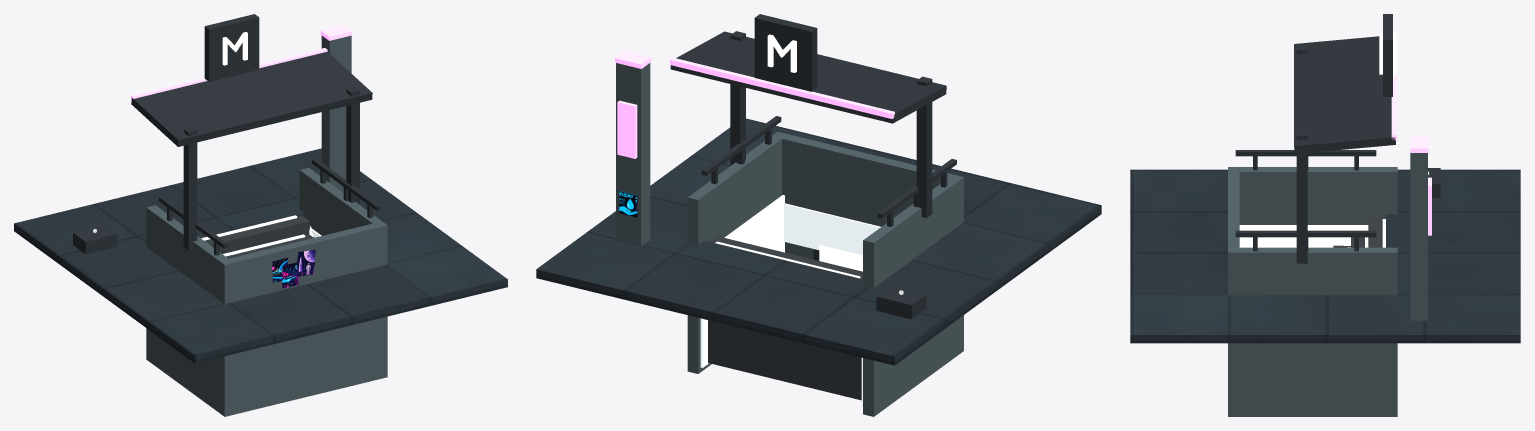
File: synthwave-subway.glb
3 renders of one model, left to right at view 1: azimuth 30°, elevation 25°; view 2: azimuth 150°, elevation 25°; view 3: azimuth 270°, elevation 25°, orthographic. The views are drawn at different scales.
Visible parts, largest first — view 1: Sub_BodyGround, Sub_Body, Sub_Frame, Sub_Door, Sub_SubPosters, Sub_NeonA, RK_Vent, Sub_SubNose, Sub_NeonB; view 2: Sub_BodyGround, Sub_Body, Sub_Frame, Sub_Door, Sub_SubTileWall, Sub_NeonA, RK_Vent, TotemGlow, Portal, Sub_NeonB; view 3: Sub_BodyGround, Sub_Body, Sub_Frame, Sub_SubTileWall, Sub_NeonA, Sub_Door.
Boxes of the visible parts, <box> form: Sub_BodyGround: <box>14,148,507,363</box>; Sub_Body: <box>146,35,387,416</box>; Sub_Frame: <box>131,14,381,255</box>; Sub_Door: <box>204,215,314,258</box>; Sub_SubPosters: <box>272,249,315,288</box>; Sub_NeonA: <box>131,25,352,99</box>; RK_Vent: <box>73,225,116,254</box>; Sub_SubNose: <box>201,215,313,256</box>; Sub_NeonB: <box>222,32,247,65</box>; Sub_BodyGround: <box>536,118,1101,365</box>; Sub_Body: <box>616,63,963,416</box>; Sub_Frame: <box>670,14,956,260</box>; Sub_Door: <box>708,236,862,400</box>; Sub_SubTileWall: <box>700,195,880,406</box>; Sub_NeonA: <box>615,51,894,118</box>; RK_Vent: <box>876,286,926,319</box>; TotemGlow: <box>617,100,637,158</box>; Portal: <box>819,245,862,271</box>; Sub_NeonB: <box>767,34,796,72</box>; Sub_BodyGround: <box>1130,169,1520,343</box>; Sub_Body: <box>1228,153,1427,416</box>; Sub_Frame: <box>1235,14,1395,263</box>; Sub_SubTileWall: <box>1239,225,1367,247</box>; Sub_NeonA: <box>1391,33,1428,152</box>; Sub_Door: <box>1333,217,1385,247</box>.
Size of the model in its own units: 1 by 0.98 by 1.
Materials: 15 (3 with a texture image).
